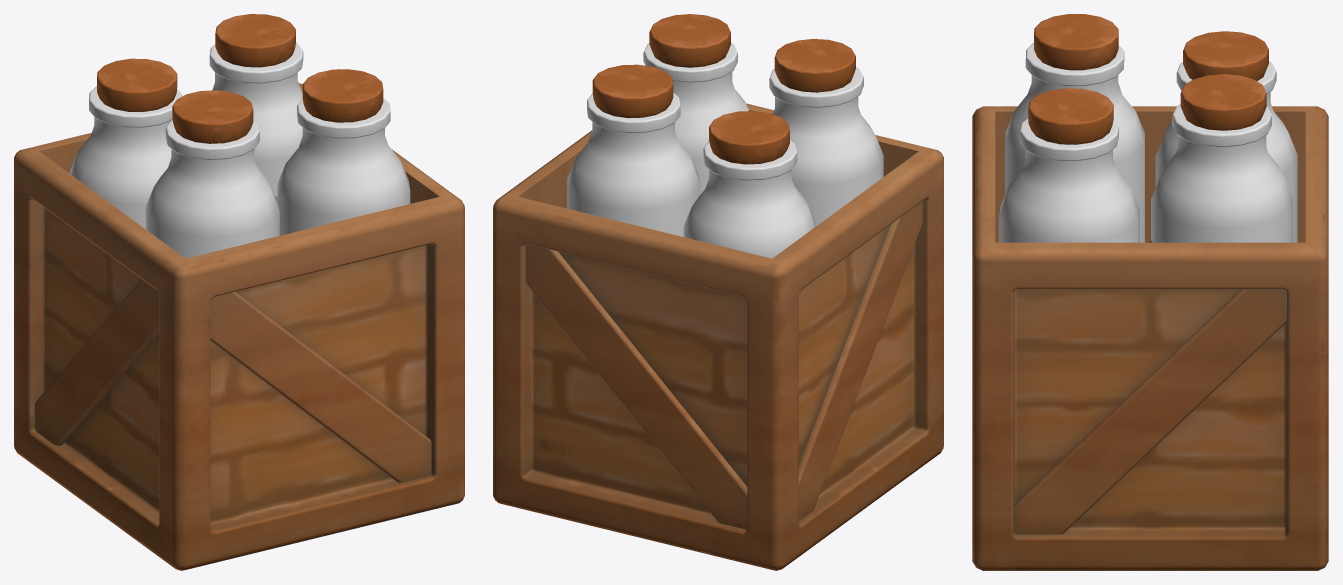
The model's file is milkbox_normal 1.fbx.
3 renders of one model, left to right at view 1: azimuth 30°, elevation 25°; view 2: azimuth 150°, elevation 25°; view 3: azimuth 270°, elevation 25°, orthographic. The views are drawn at different scales.
Parts seen in each view (by area): view 1: Cube:002.001; view 2: Cube:002.001; view 3: Cube:002.001.
Part boxes in pixels (x1=…): Cube:002.001: x1=14, y1=14, x2=464, y2=570; Cube:002.001: x1=493, y1=14, x2=943, y2=570; Cube:002.001: x1=972, y1=14, x2=1328, y2=570.
Bounding box in the file's own units: 120 × 162 × 120.
